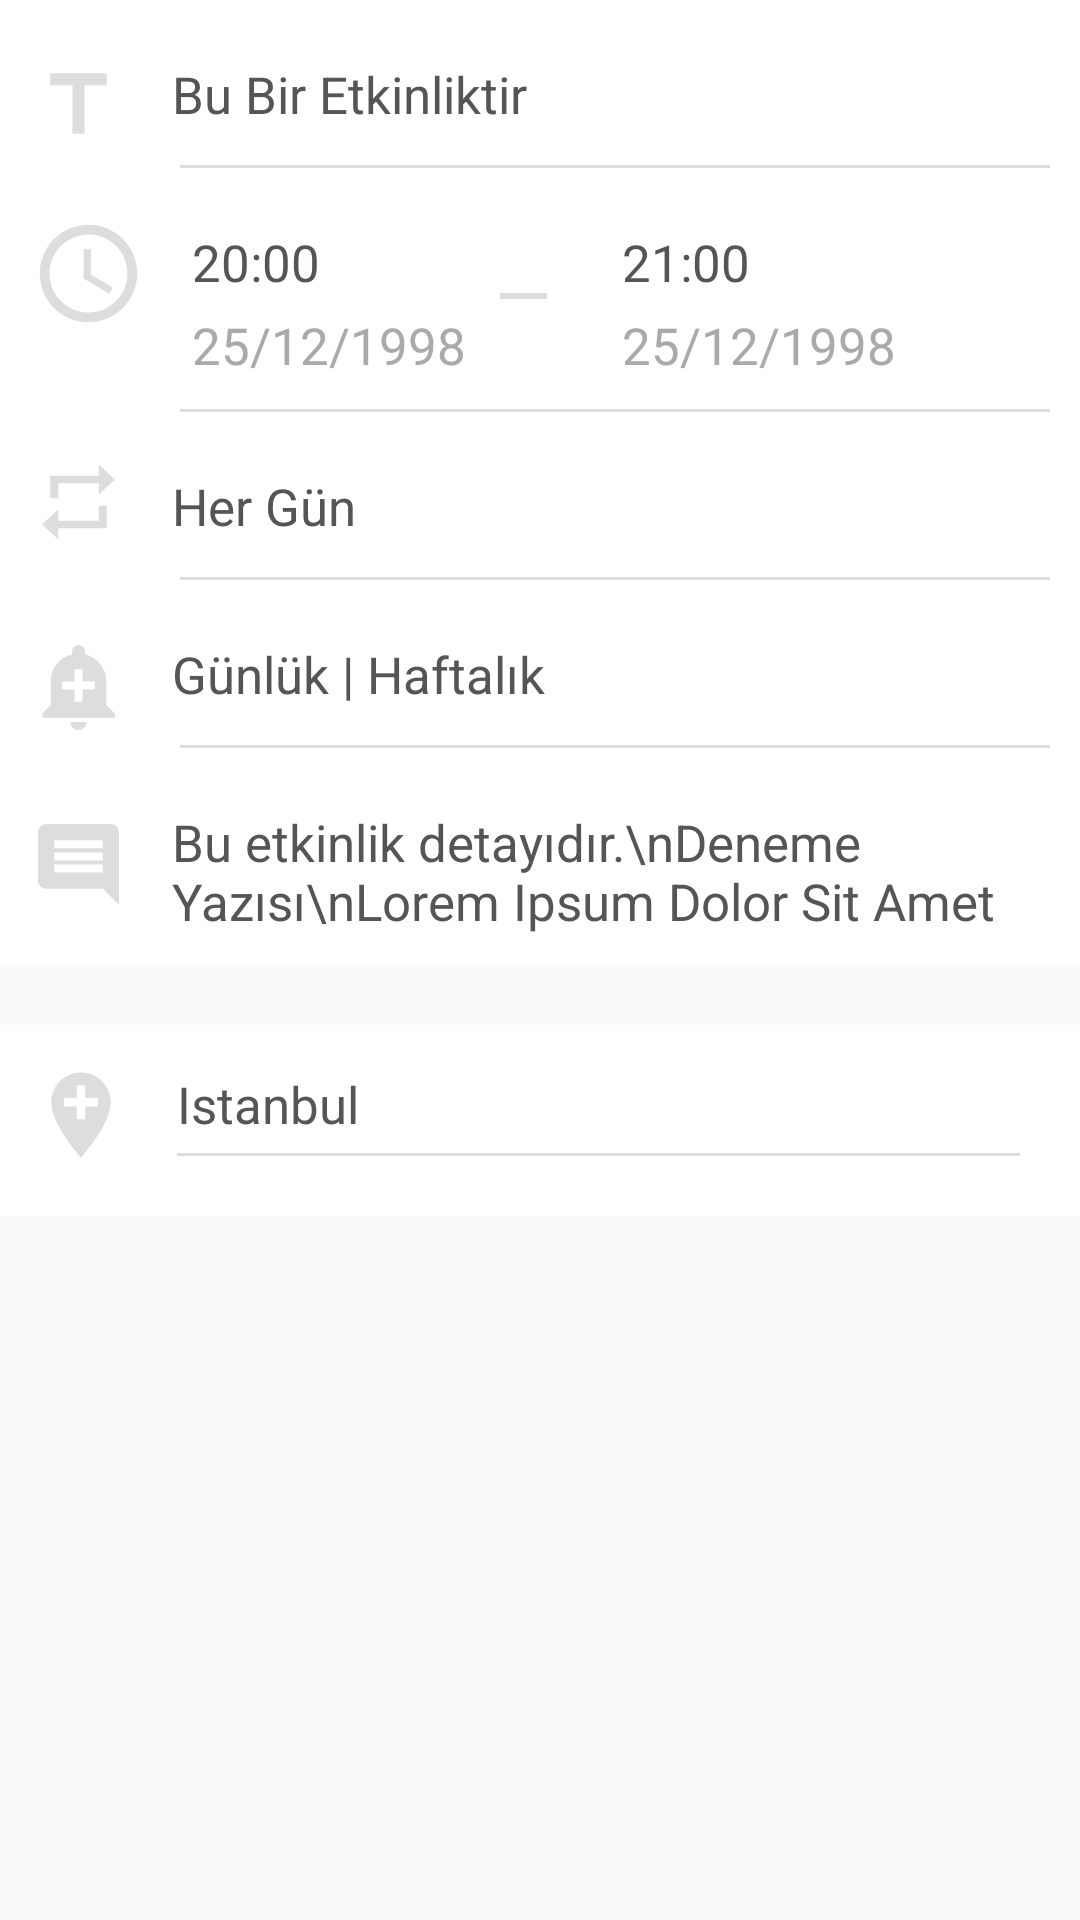

Named icons in this screenshot (1080×1920) and their bounding boxes, (x1, y1, x2, y2):
event details: (38, 824, 119, 904)
event location: (51, 1073, 111, 1157)
event reminder: (42, 645, 115, 730)
event repeat: (43, 465, 114, 539)
event time: (40, 225, 137, 322)
event title: (50, 73, 107, 134)
